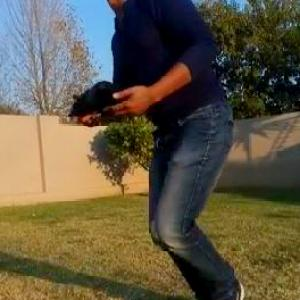follow: (66, 0, 252, 299)
